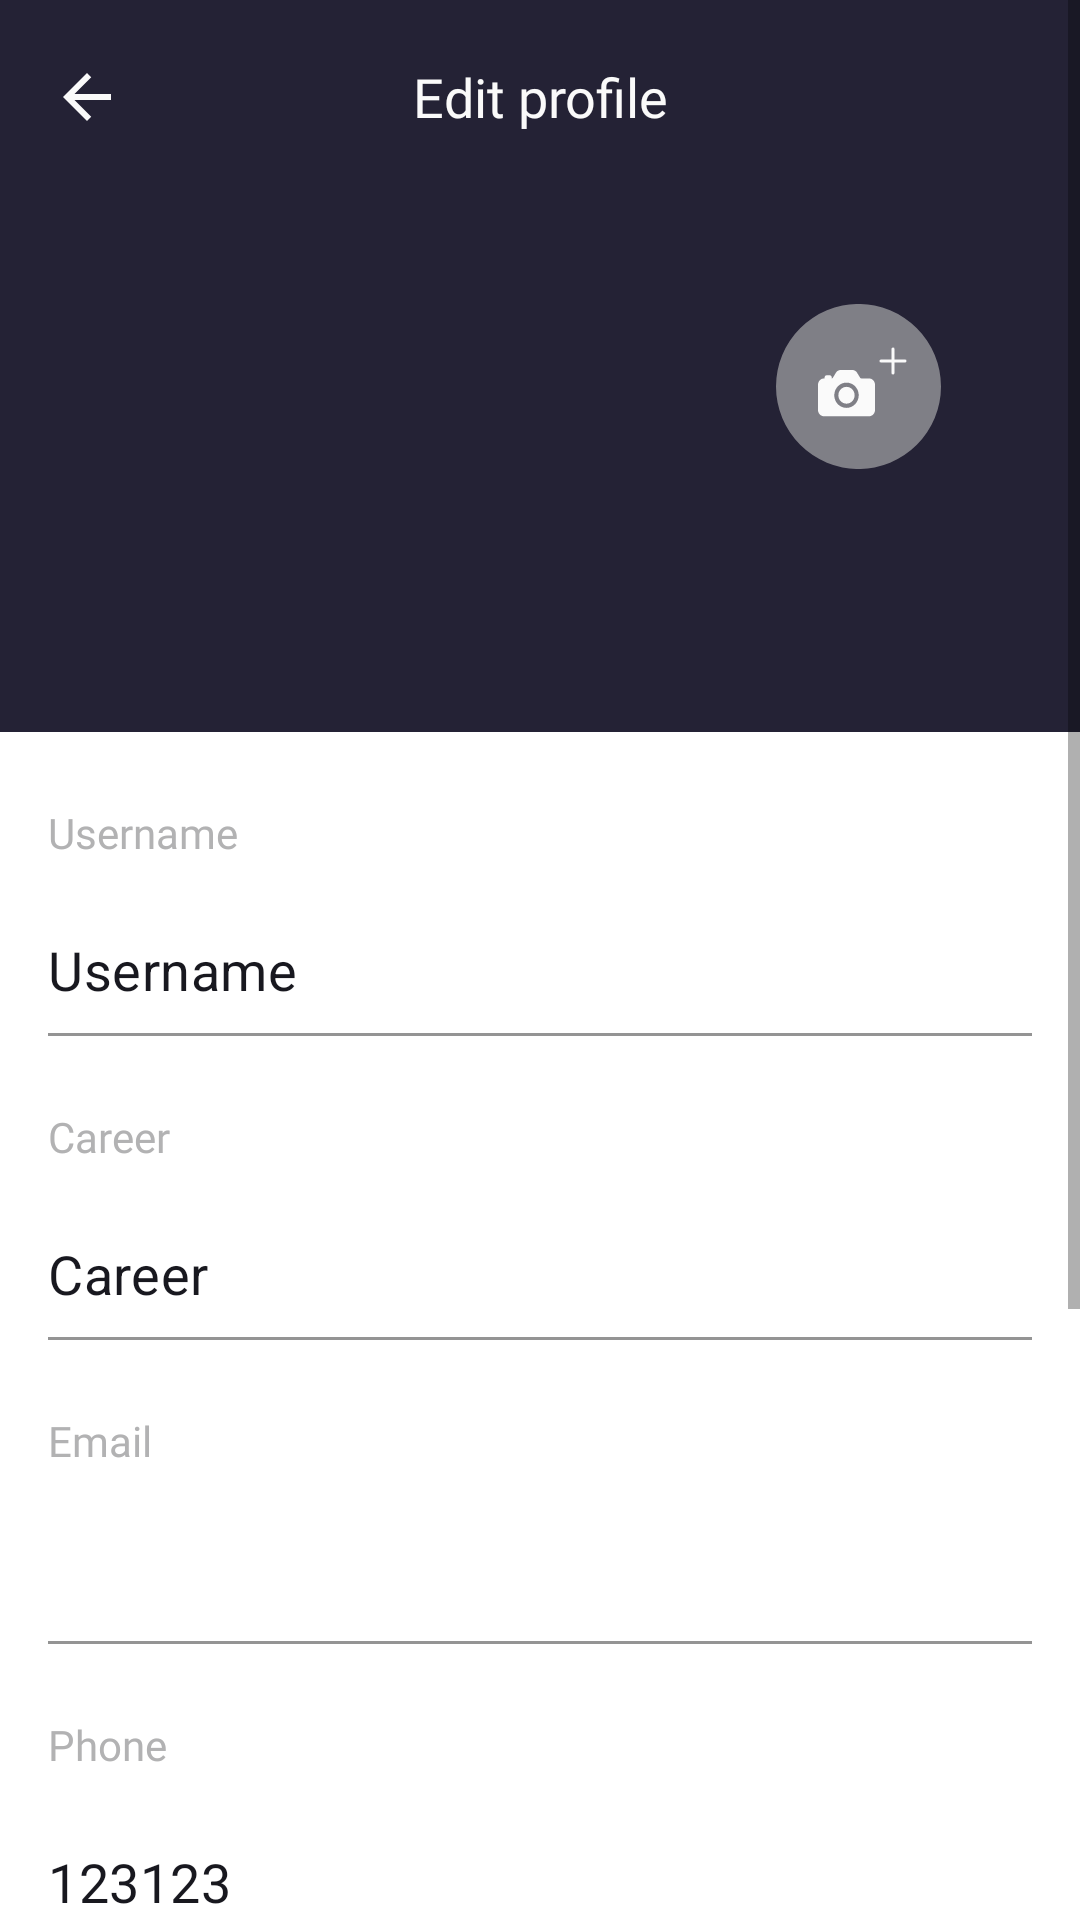

Screen size 1080*1920. Icon name, then its box in pixels as (x1, y1, x2, y2):
arrow back: (63, 73, 111, 121)
